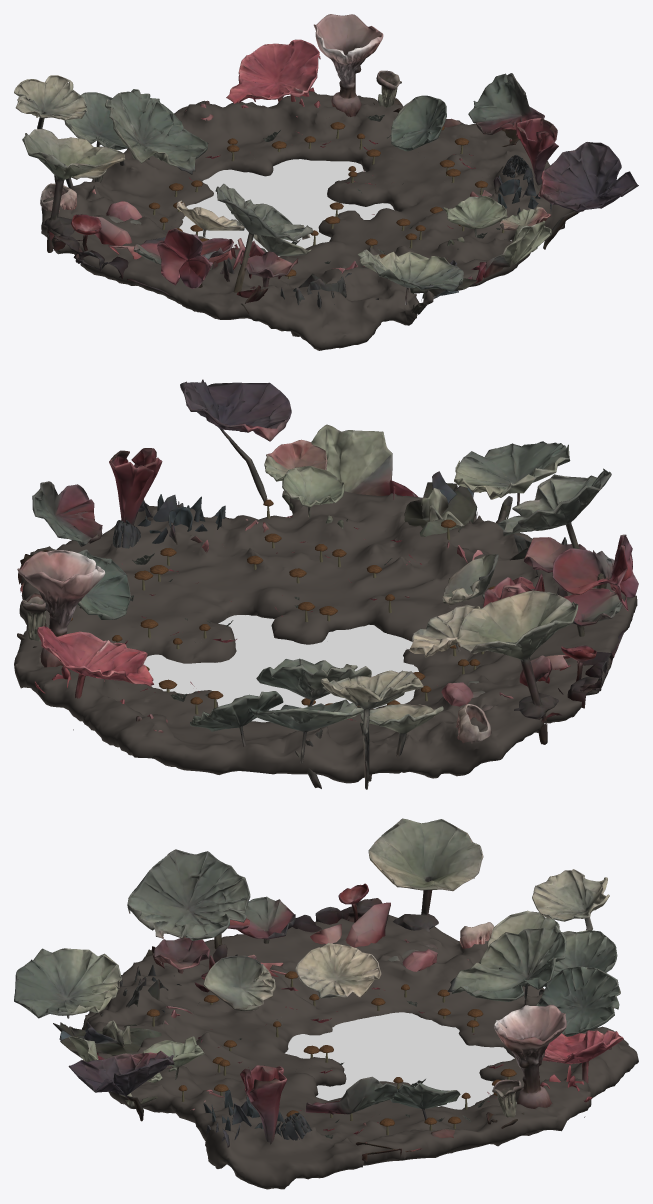
Rendered from forest_refined.glb.
3 views of the same model, one above another, from view 1: azimuth 30°, elevation 25°; view 2: azimuth 150°, elevation 25°; view 3: azimuth 270°, elevation 25° (orthographic). The views are drawn at different scales.
Visible parts, largest first — view 1: Plants_Roots, Mesh_0.001, Water, V5_Mushroom_Cap, V5_Mushroom_Stem; view 2: Mesh_0.001, Plants_Roots, Water, V5_Mushroom_Cap, V5_Mushroom_Stem; view 3: Plants_Roots, Mesh_0.001, Water, V5_Mushroom_Cap.
Boxes of the visible parts, box(x1,y1,x2,y2) form: Plants_Roots: box(14, 14, 638, 314); Mesh_0.001: box(41, 91, 573, 350); Water: box(179, 159, 394, 256); V5_Mushroom_Cap: box(149, 122, 500, 276); V5_Mushroom_Stem: box(153, 129, 504, 278); Mesh_0.001: box(14, 491, 637, 783); Plants_Roots: box(17, 379, 638, 789); Water: box(143, 615, 418, 722); V5_Mushroom_Cap: box(71, 499, 494, 706); V5_Mushroom_Stem: box(116, 506, 484, 714); Plants_Roots: box(14, 818, 623, 1161); Mesh_0.001: box(69, 915, 638, 1189); Water: box(285, 1012, 514, 1109); V5_Mushroom_Cap: box(147, 971, 516, 1126).
Bounding box in the file's own units: 51.8 × 15.41 × 55.42.
Materials: 3 (2 with a texture image).
